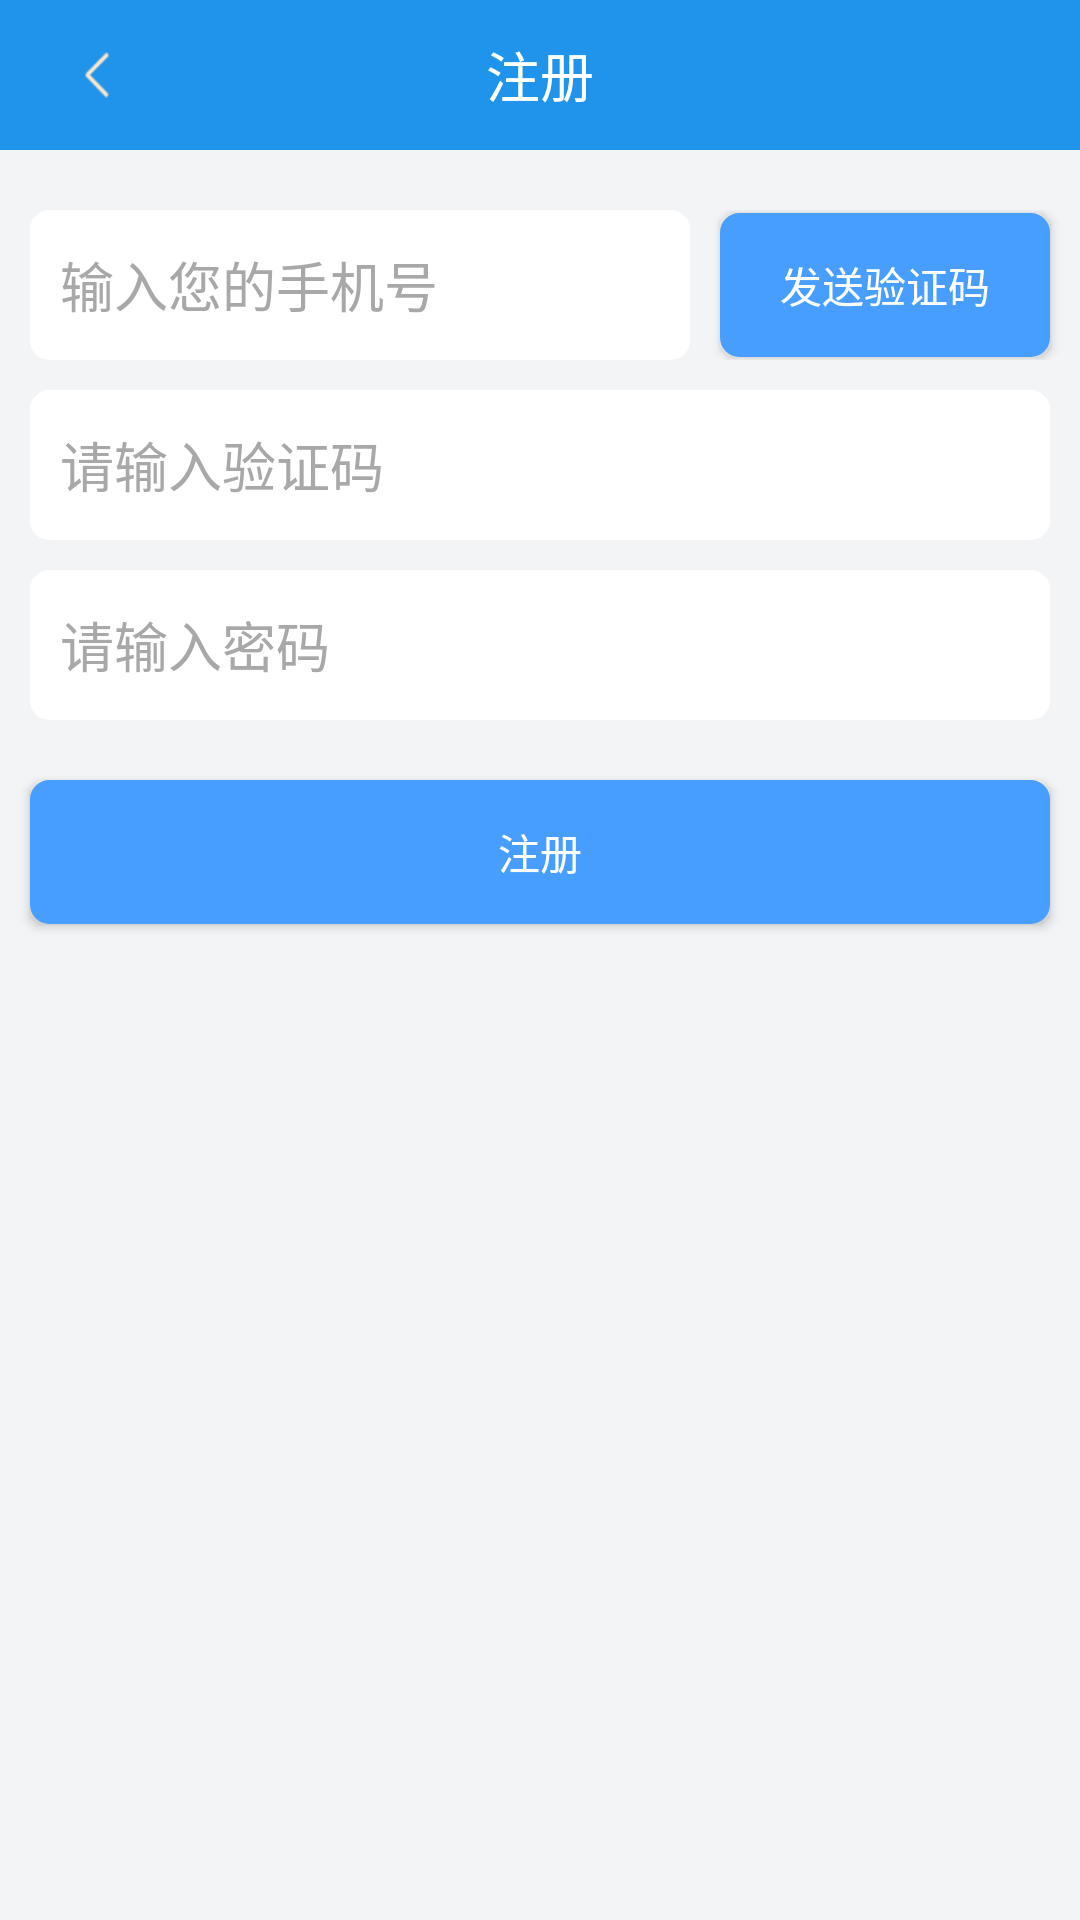

Icons on this 1080 × 1920 Android screen, each with its box as (x1, y1, x2, y2):
register back: (85, 52, 109, 98)
